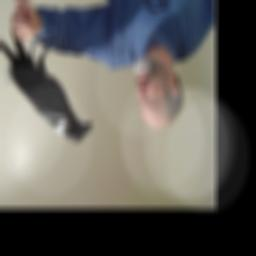Crow: (0, 29, 92, 147)
